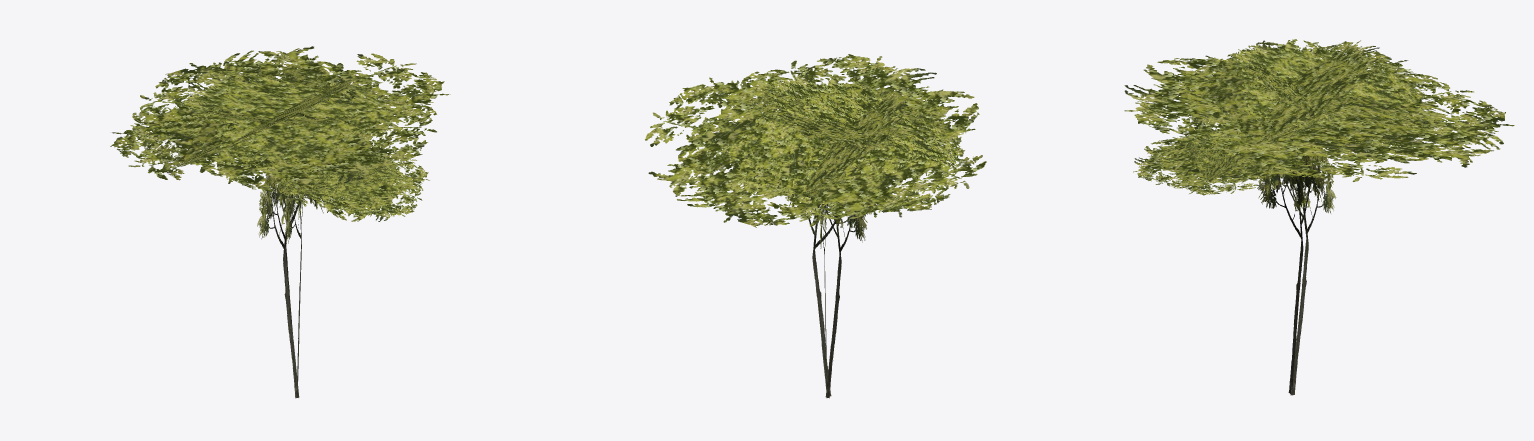
File: Tree.fbx
The picture shows the model from 3 angles, left to right: view 1: azimuth 30°, elevation 25°; view 2: azimuth 150°, elevation 25°; view 3: azimuth 270°, elevation 25°; orthographic projection. The views are drawn at different scales.
Visible parts, largest first — view 1: tree; view 2: tree; view 3: tree.
Boxes of the visible parts, box(x1,y1,x2,y2) form: tree: box(110, 46, 450, 398); tree: box(645, 54, 986, 398); tree: box(1124, 39, 1514, 395).
Size of the model in its own units: 5473 by 5854 by 4991.
Materials: 1 (1 with a texture image).
